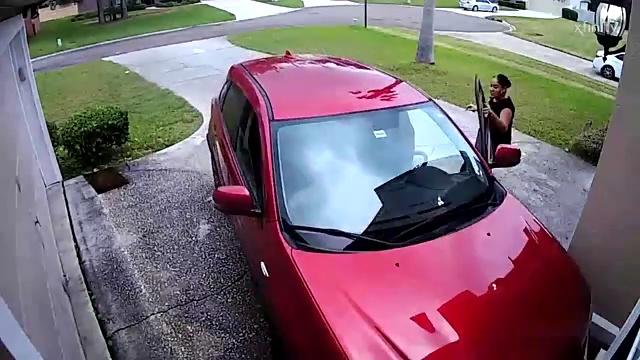face: (488, 81, 504, 97)
